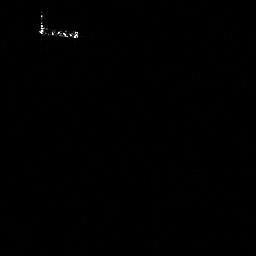ship: (39, 15, 79, 38)
